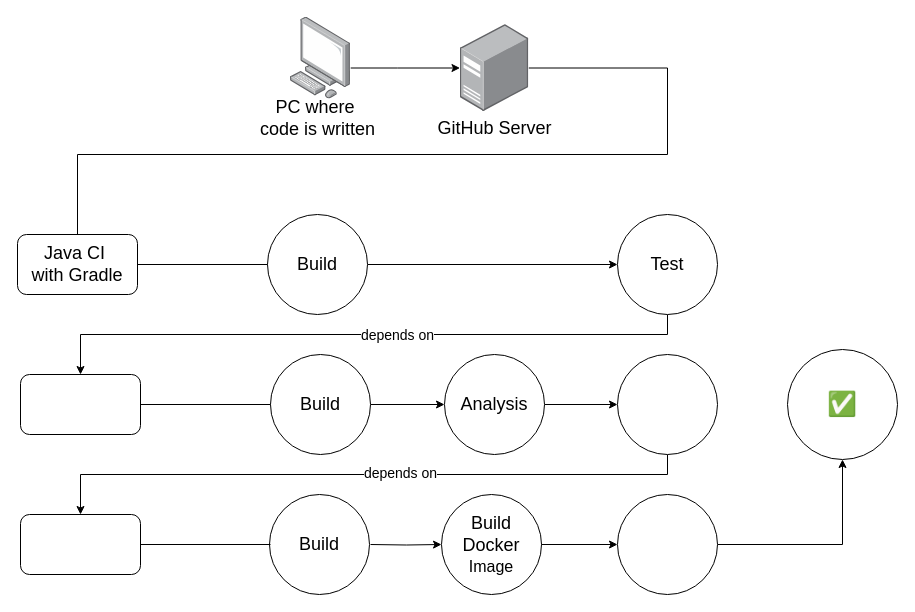
Image size: 915x612. Some labels were removed from this diagram. The shapes that lost their labels are listed below. From the top down, each one's box as (x1, y1, x2, y2) in pixels, then its label:
(20, 374, 140, 434): Sonarqube Analyze
(616, 354, 718, 454): Quality gate
(20, 514, 140, 574): Docker Image CI
(616, 494, 718, 594): Push image to Docker Hub
